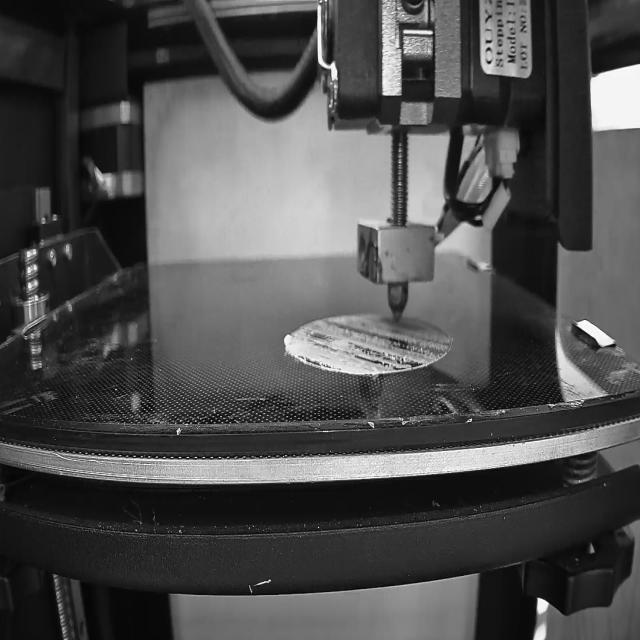under_extrusion: (341, 324, 449, 363), (299, 327, 337, 365)
